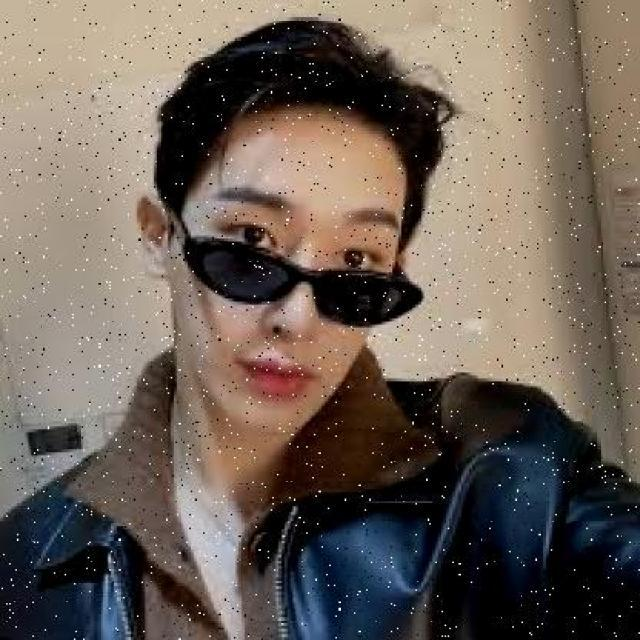sunglasses: (170, 225, 430, 344)
